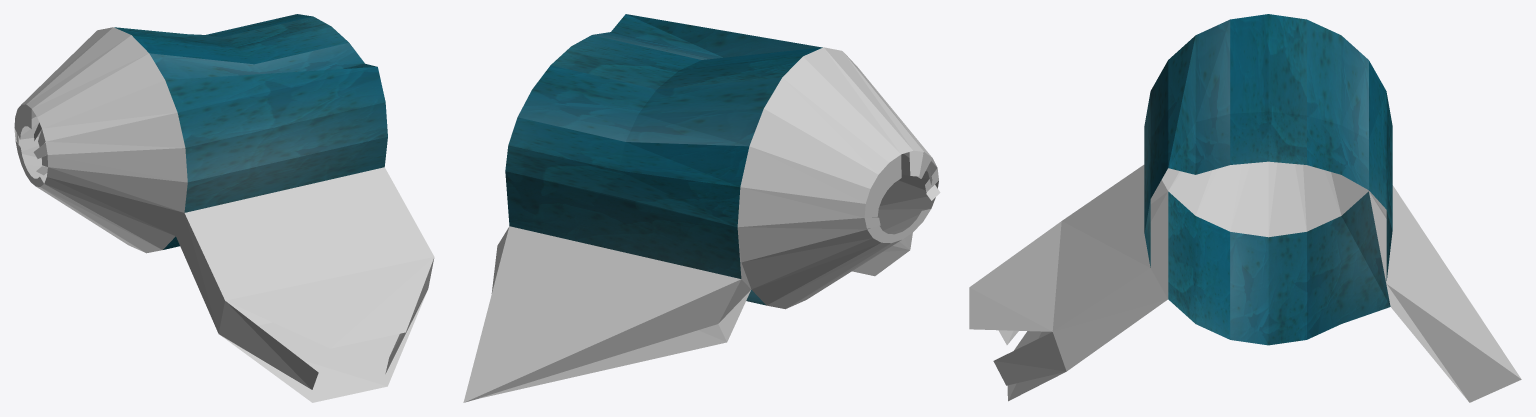
Rendered from Small_Space_Trash_3.fbx.
The picture shows the model from 3 angles, left to right: view 1: azimuth 30°, elevation 25°; view 2: azimuth 150°, elevation 25°; view 3: azimuth 270°, elevation 25°; orthographic projection. The views are drawn at different scales.
Parts seen in each view (by area): view 1: pCylinder2; view 2: pCylinder2; view 3: pCylinder2.
Boxes of the visible parts, left/top/right/bottom form: pCylinder2: left=14, top=14, right=434, bottom=402; pCylinder2: left=463, top=14, right=940, bottom=402; pCylinder2: left=969, top=14, right=1521, bottom=402.
Size of the model in its own units: 3.11 by 2.82 by 4.46.
